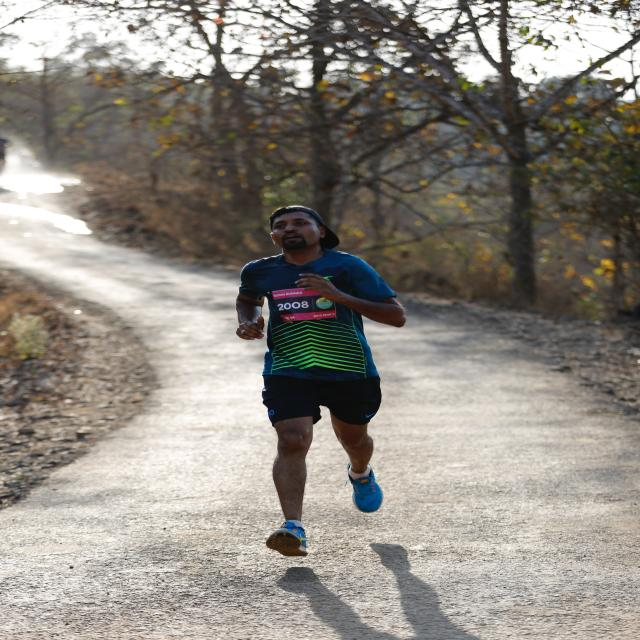running: (232, 199, 416, 571)
